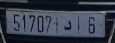0: (37, 15, 44, 33)
1: (22, 14, 26, 33)
5: (13, 13, 21, 31)
6: (87, 16, 96, 34)
7: (45, 14, 52, 34), (29, 14, 36, 33)
d: (62, 19, 72, 31)
